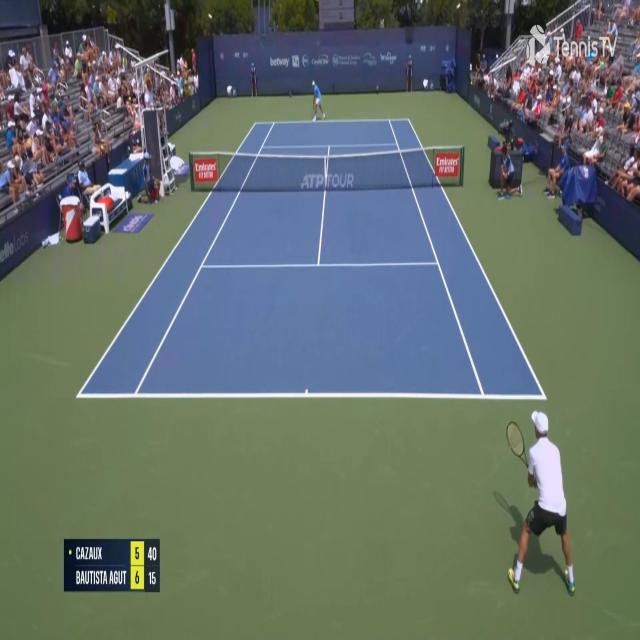tennis-player: (491, 406, 581, 595), (310, 76, 327, 124)
